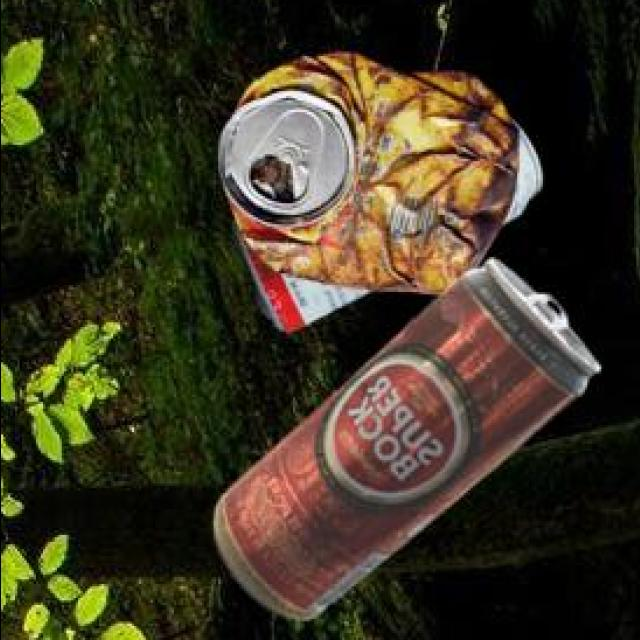logam: (209, 256, 594, 615), (214, 48, 515, 291), (228, 118, 536, 328)
